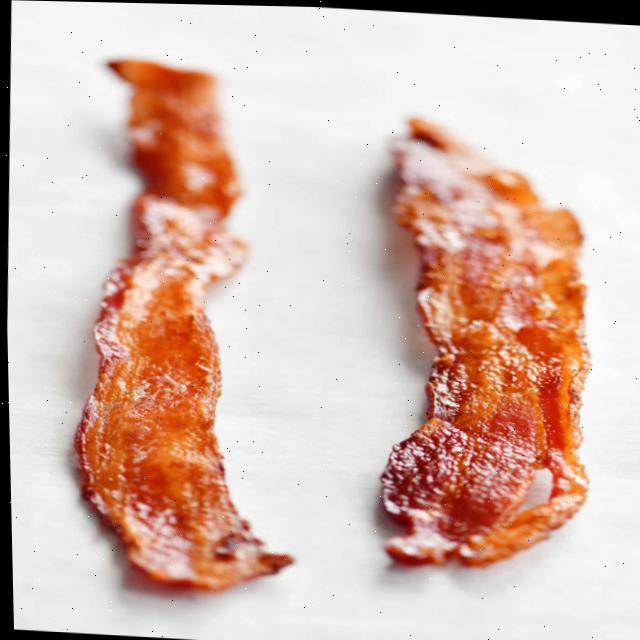Bacon: (73, 59, 290, 589), (380, 116, 588, 563)
